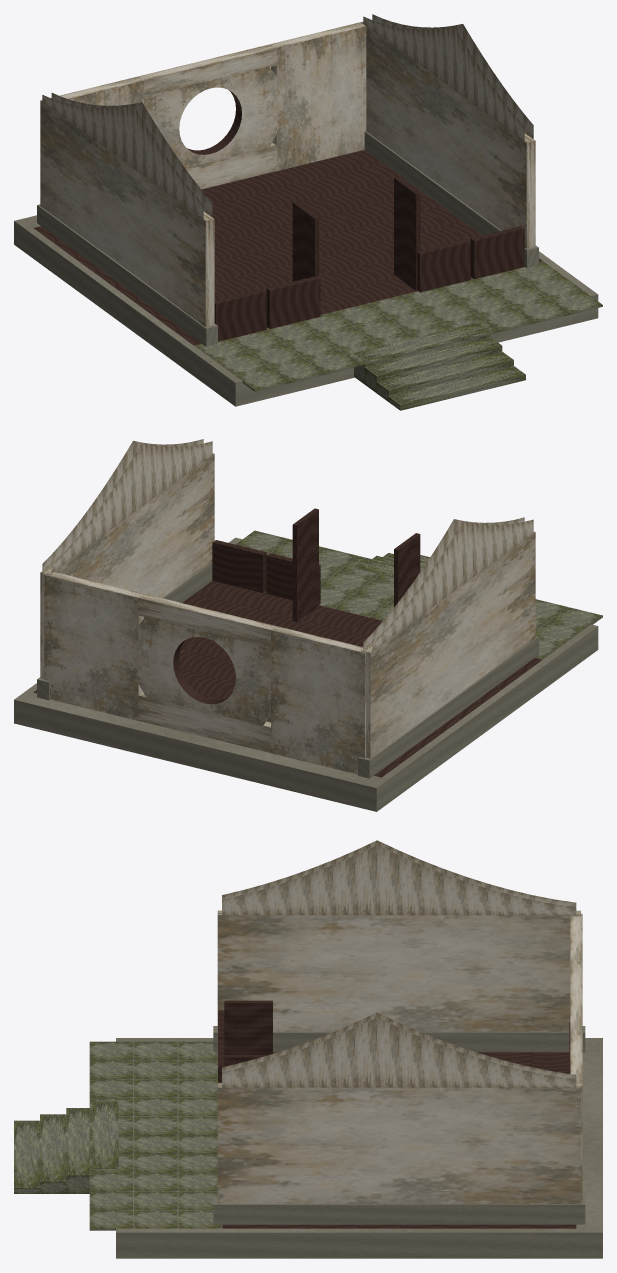
Rendered from chan_shell.glb.
3 renders of one model, top to bottom at view 1: azimuth 30°, elevation 25°; view 2: azimuth 150°, elevation 25°; view 3: azimuth 270°, elevation 25°, orthographic. The views are drawn at different scales.
Parts seen in each view (by area): view 1: chan_shell0; view 2: chan_shell0; view 3: chan_shell0.
Part boxes in pixels (x1,y1,x2,y2): chan_shell0: (14,14,602,410); chan_shell0: (14,439,602,811); chan_shell0: (14,840,602,1258).
Size of the model in its own units: 10.4 by 5.79 by 13.3.
Materials: 1 (1 with a texture image).
